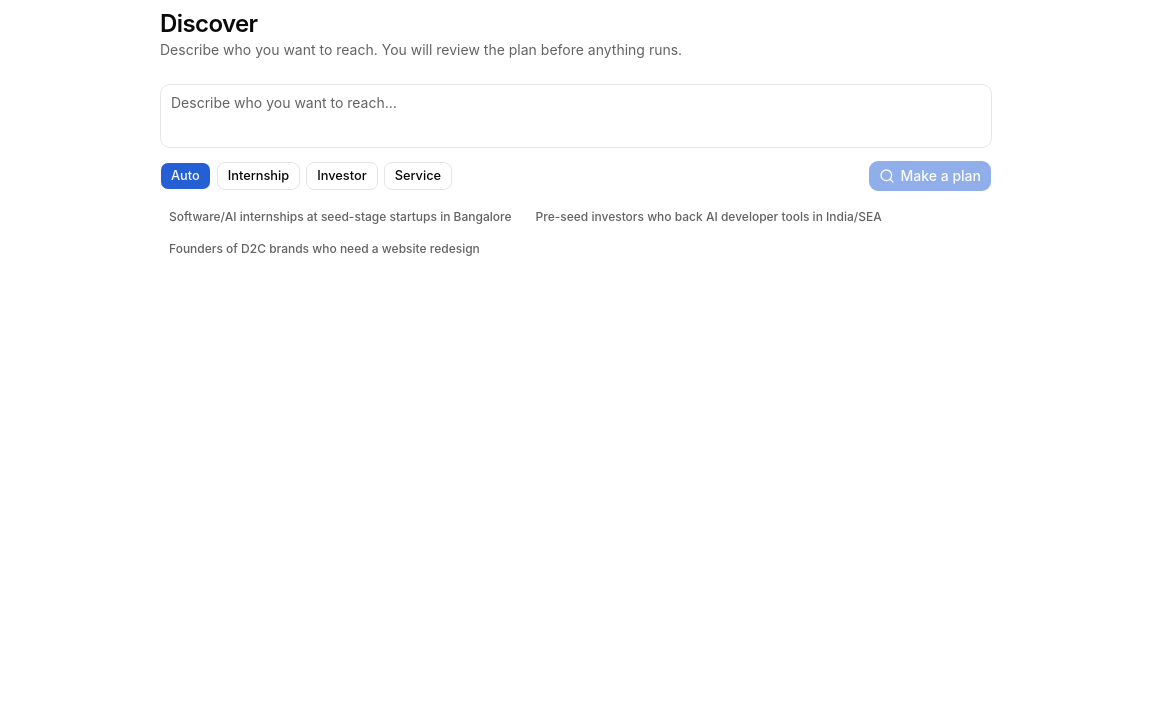
DiscoverPage › offers OpenStreetMap only for service mode
This screenshot has width=1152, height=712.
In the text box named "Who do you want to reach?": (576, 116) [160,84,992,148], type "x"
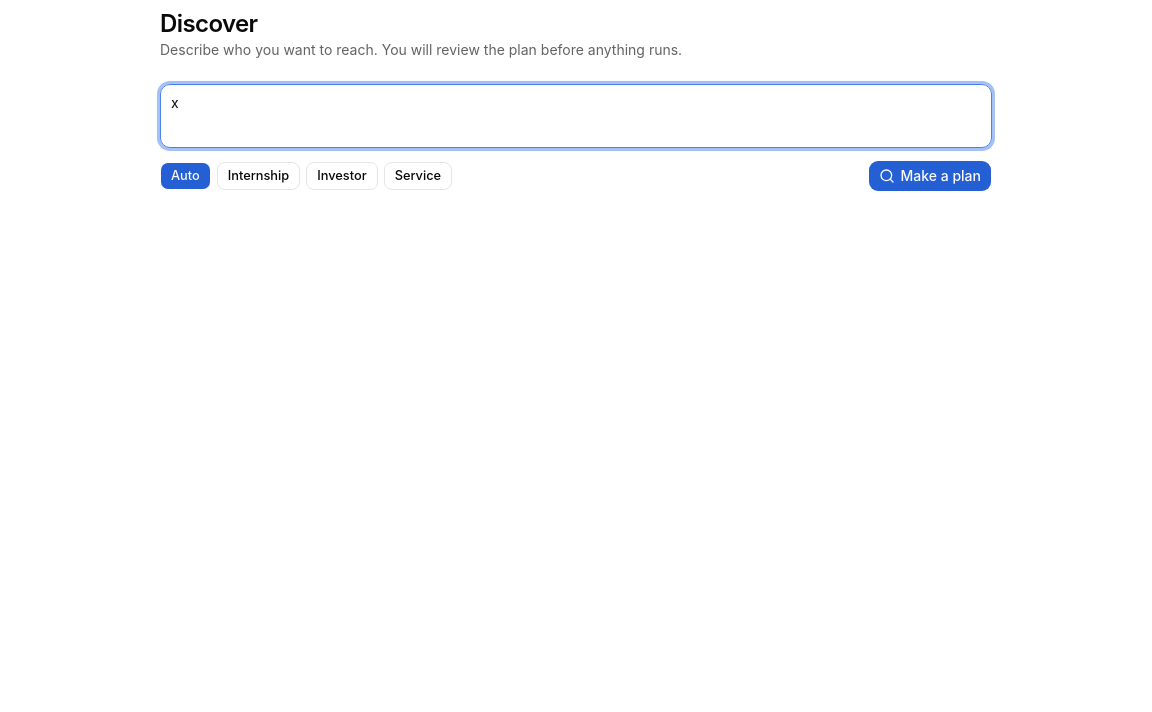
Click the button "Make a plan": (930, 176) [868,160,992,192]
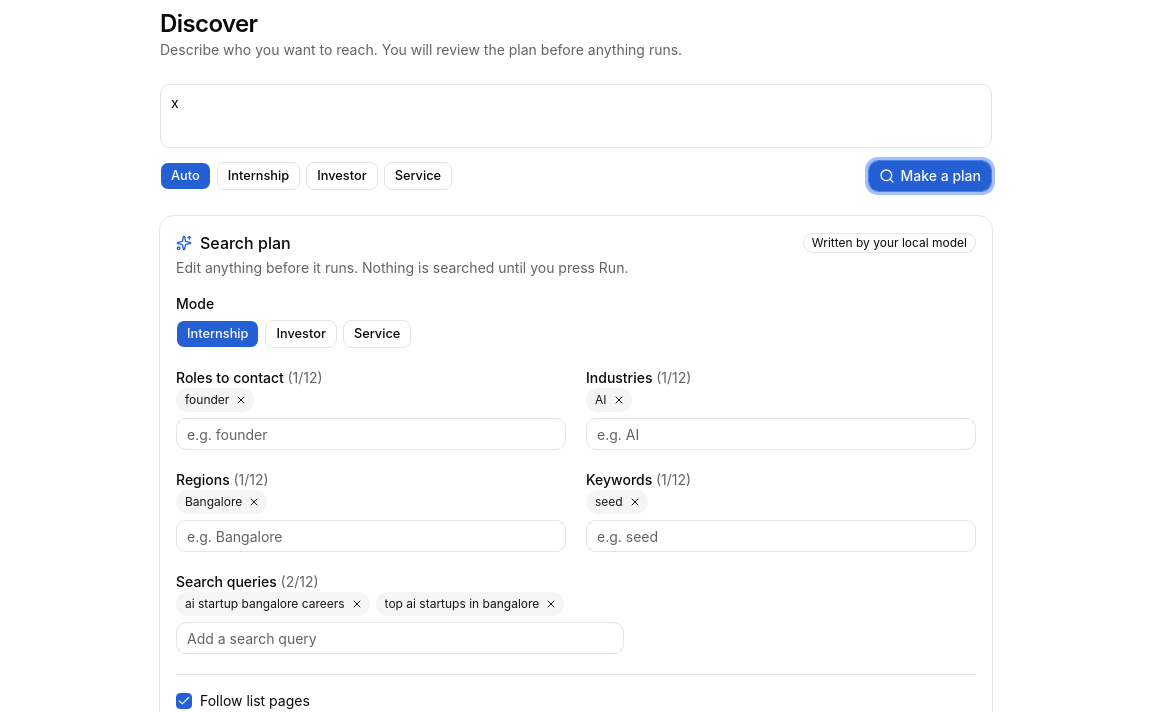
Expected: the checkbox labelled "OpenStreetMap" is not shown
Click the button "Service" below "Search plan": (377, 334) [343,320,411,348]
(page scrolled)
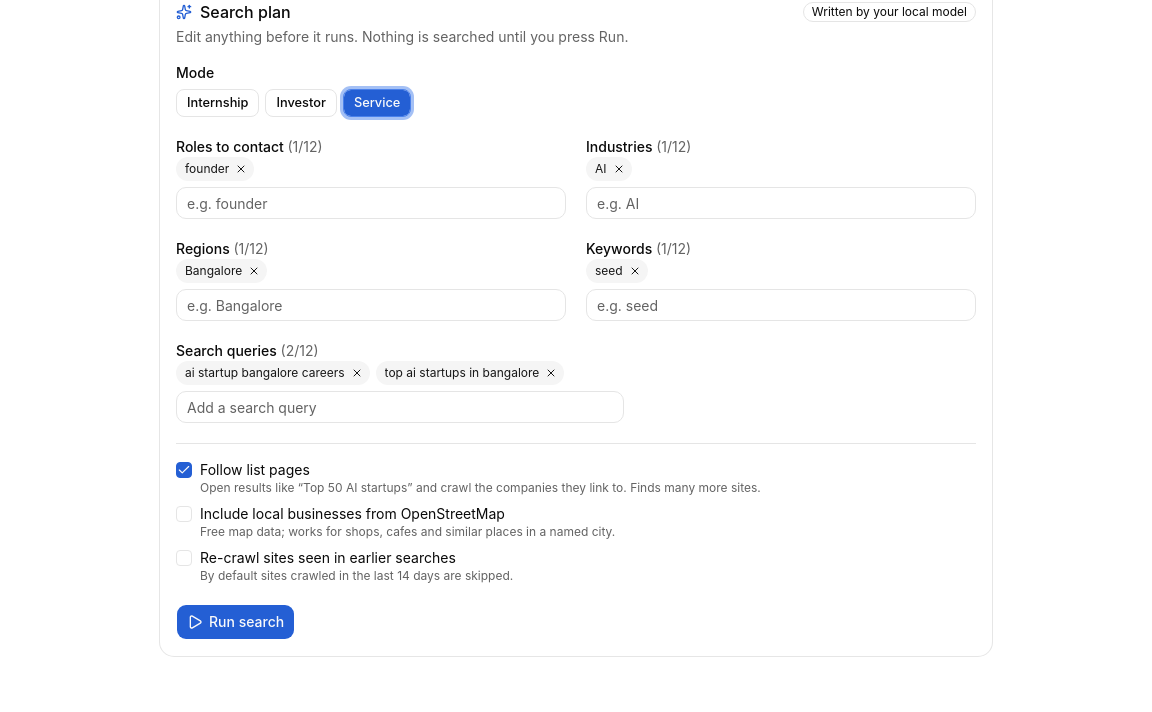
Expected: the 2nd checkbox named "OpenStreetMap" is shown, [176,506,192,522]
